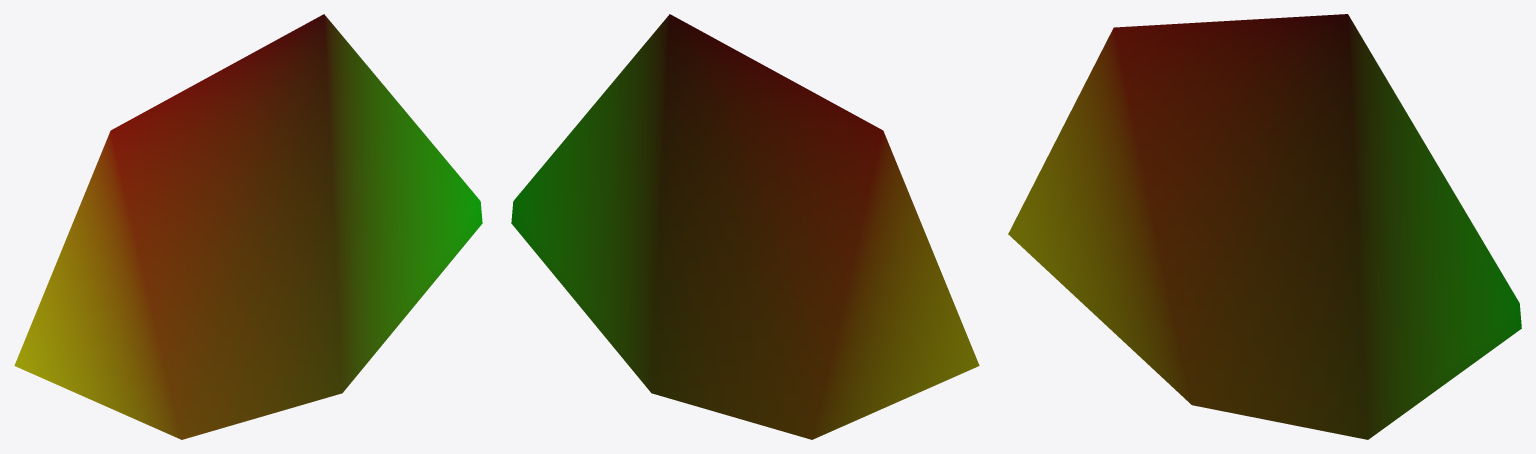
File: tmjhcayia_Var6_LOD4.fbx
3 renders of one model, left to right at view 1: azimuth 30°, elevation 25°; view 2: azimuth 150°, elevation 25°; view 3: azimuth 330°, elevation 25°, orthographic. The views are drawn at different scales.
Visible parts, largest first — view 1: Var6_LOD4; view 2: Var6_LOD4; view 3: Var6_LOD4.
Boxes of the visible parts, x1,y1,x2,y2 form: Var6_LOD4: (14, 14, 482, 439); Var6_LOD4: (511, 14, 979, 439); Var6_LOD4: (1008, 14, 1521, 439).
Bounding box in the file's own units: 12.45 × 9.94 × 1.62e-06.
